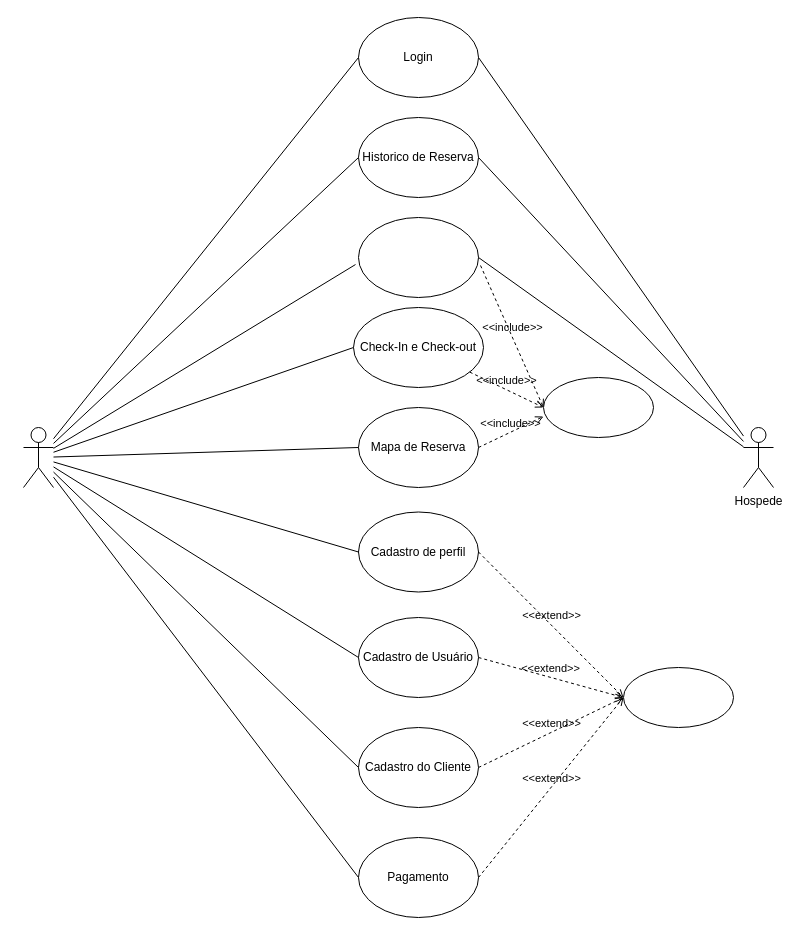
The diagram is 800 pixels wide and 935 high, and some of its shapes have lost their labels. Here are the shapes that lost their labels. From the top down, the box of each, then its label:
(358, 216, 478, 298): Reservar
(542, 376, 654, 438): Consulta de Agenda
(22, 426, 54, 488): Clientes
(622, 666, 734, 728): CRUD
